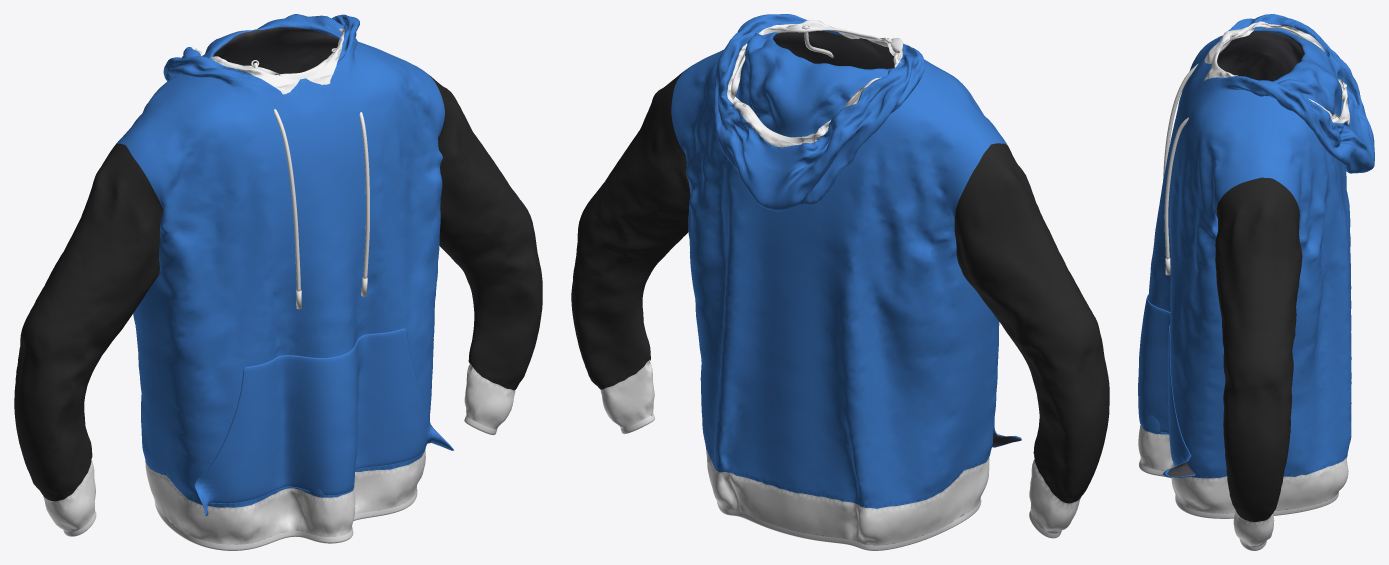
The model's file is warmup.glb.
The picture shows the model from 3 angles, left to right: view 1: azimuth 30°, elevation 25°; view 2: azimuth 150°, elevation 25°; view 3: azimuth 270°, elevation 25°; orthographic projection. The views are drawn at different scales.
Visible parts, largest first — view 1: Jersey; view 2: Jersey; view 3: Jersey.
Boxes of the visible parts, x1=… form: Jersey: x1=14, y1=14, x2=542, y2=550; Jersey: x1=571, y1=14, x2=1109, y2=550; Jersey: x1=1138, y1=14, x2=1374, y2=550.
Size of the model in its own units: 3.04 by 2.57 by 1.3.
